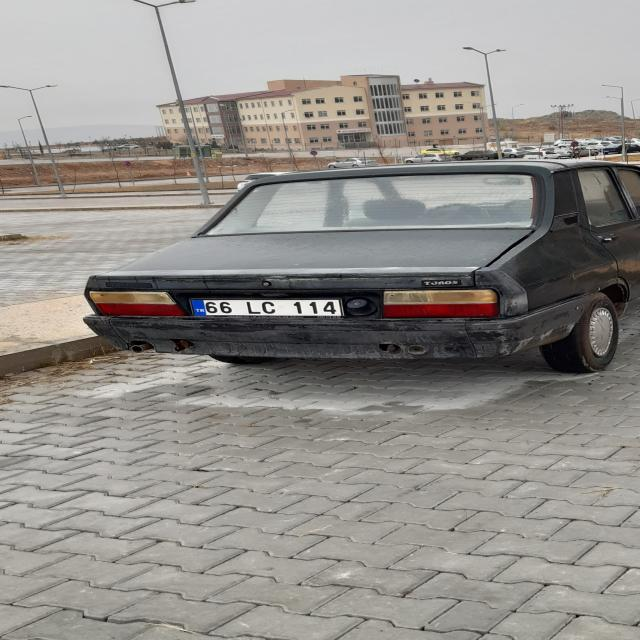plate: (188, 299, 344, 316)
